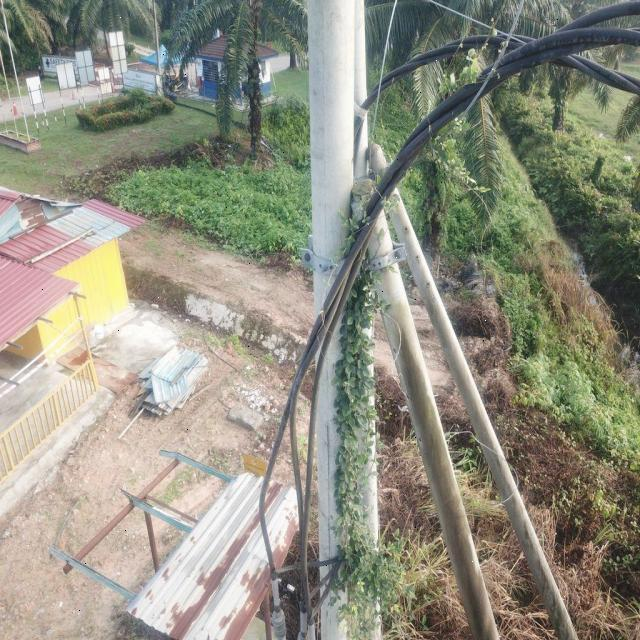critical vegetation: (310, 170, 410, 631)
